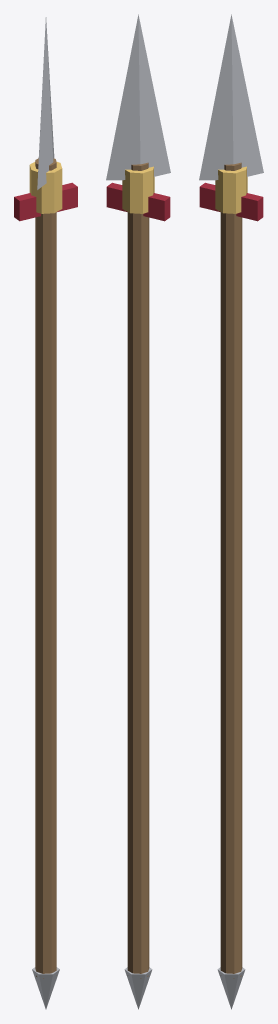
Rendered from w_spear.glb.
3 renders of one model, left to right at view 1: azimuth 30°, elevation 25°; view 2: azimuth 150°, elevation 25°; view 3: azimuth 330°, elevation 25°, orthographic.
Visible parts, largest first — view 1: w_spear; view 2: w_spear; view 3: w_spear.
Boxes of the visible parts, <box> form: w_spear: <box>14,17,77,1009</box>; w_spear: <box>106,14,170,1009</box>; w_spear: <box>199,14,263,1009</box>.
Bounding box in the file's own units: 0.12 × 1.96 × 0.0849.
